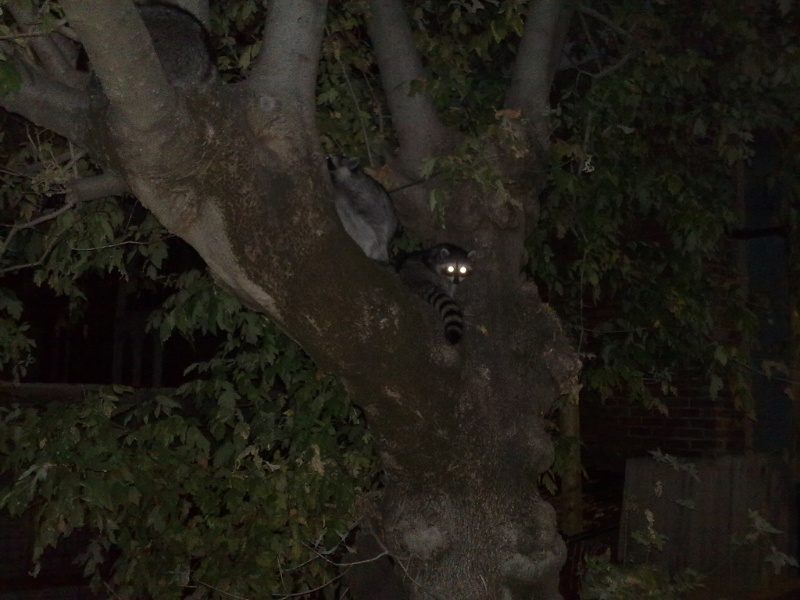raccoon: (390, 233, 479, 343)
